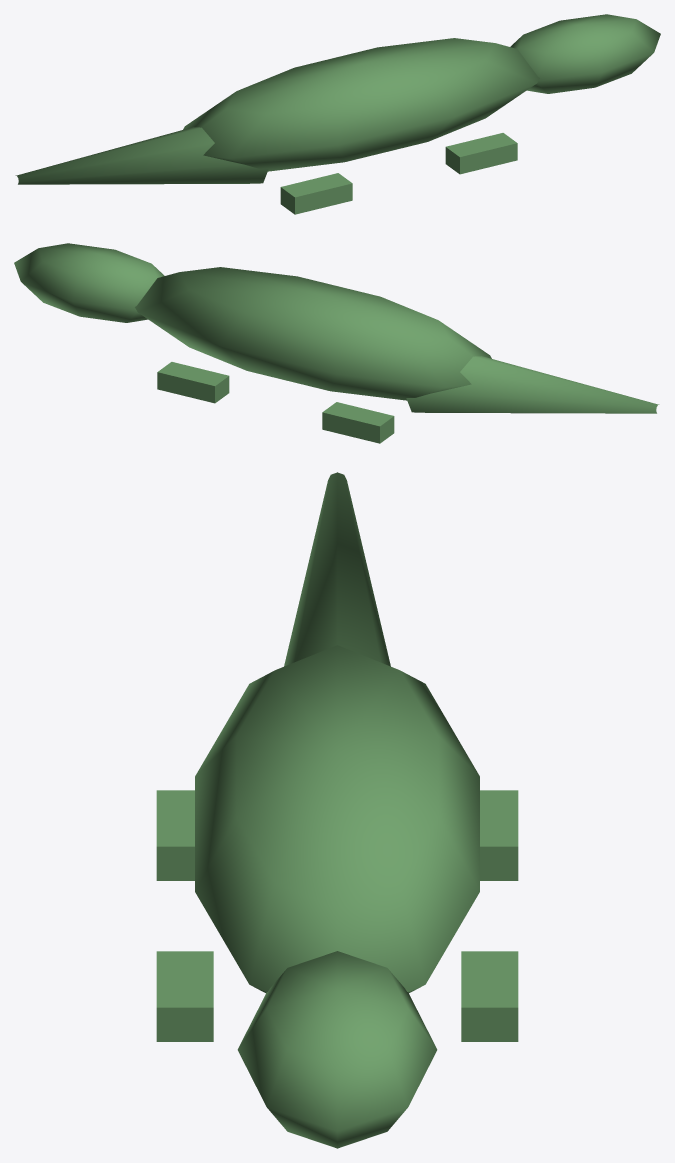
File: crocodile.glb
The picture shows the model from 3 angles, top to bottom: view 1: azimuth 30°, elevation 25°; view 2: azimuth 150°, elevation 25°; view 3: azimuth 270°, elevation 25°; orthographic projection. The views are drawn at different scales.
Parts seen in each view (by area): view 1: crocodile; view 2: crocodile; view 3: crocodile.
Part boxes in pixels (box(x1,y1,x2,y2)): crocodile: box(15, 14, 660, 214); crocodile: box(14, 243, 659, 443); crocodile: box(156, 472, 518, 1148).
Size of the model in its own units: 3.13 by 0.4282 by 0.76.
